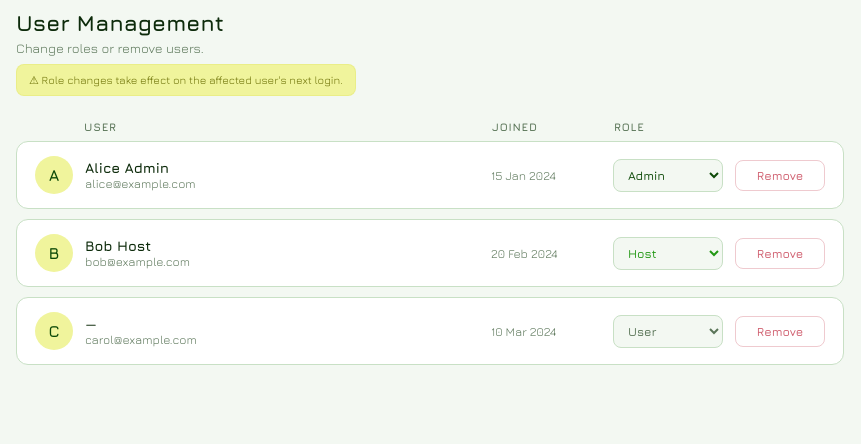
Scenario: AdminPanel — delete user › shows error when DELETE fails
The width and height of the screenshot is (861, 444).
Click the button "Remove" in the row of "15 Jan 2024" at (780, 175), box x1=735 y1=160 x2=825 y2=190
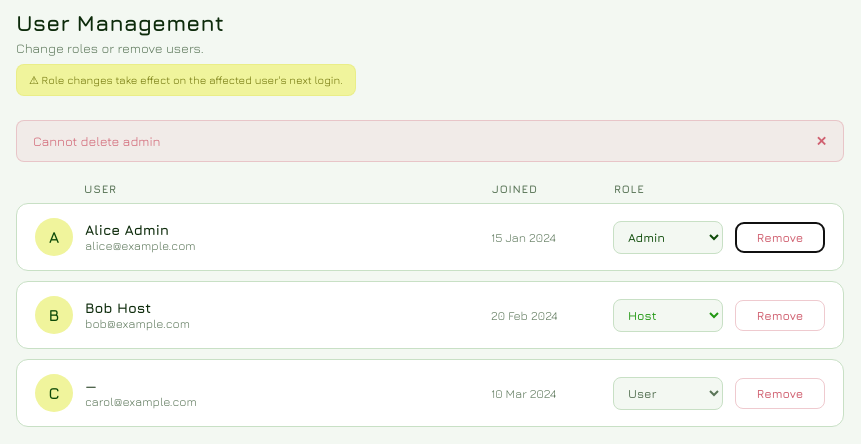
Expected: the text "Cannot delete admin" is shown, x1=33 y1=133 x2=160 y2=149
